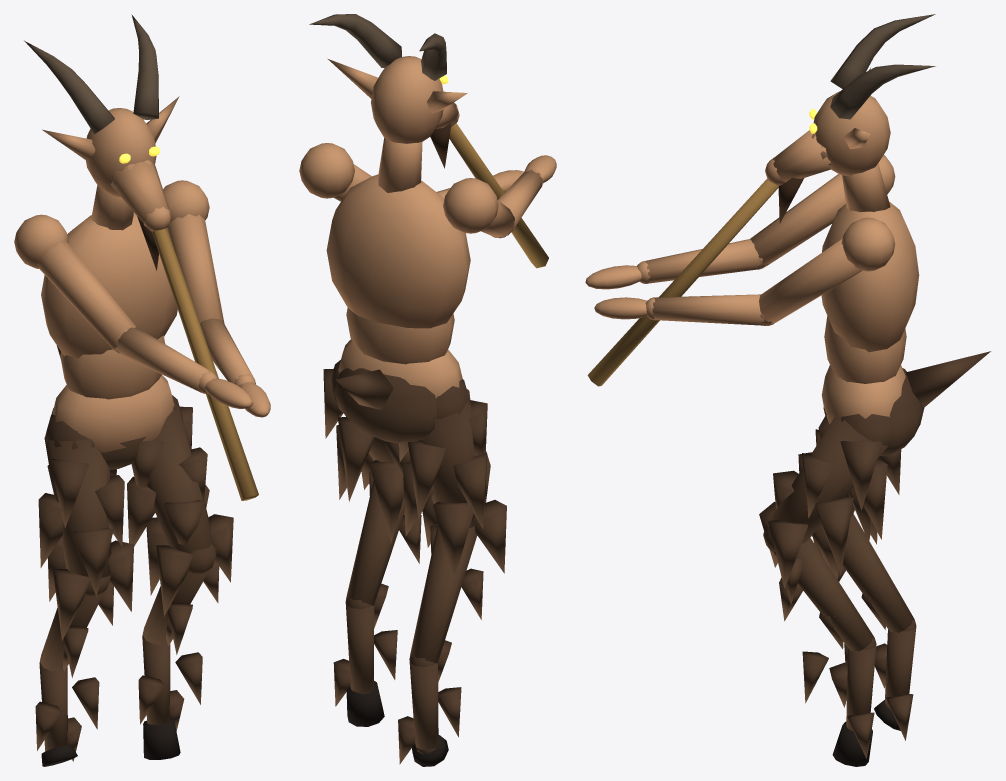
File: satyr.glb
The picture shows the model from 3 angles, left to right: view 1: azimuth 30°, elevation 25°; view 2: azimuth 150°, elevation 25°; view 3: azimuth 270°, elevation 25°; orthographic projection. The views are drawn at different scales.
Visible parts, largest first — view 1: head, torso, thigh_R, thigh_L, shin_L, shin_R, pelvis, upperarm_R, upperarm_L, forearm_R, forearm_L, foot_L (+3 smaller); view 2: torso, thigh_R, head, shin_R, shin_L, pelvis, thigh_L, upperarm_R, upperarm_L, tail, forearm_R, foot_L (+2 smaller); view 3: head, thigh_L, torso, shin_L, shin_R, upperarm_L, pelvis, upperarm_R, forearm_L, forearm_R, tail, thigh_R (+3 smaller).
Boxes of the visible parts, x1=… form: head: x1=24, y1=14, x2=258, y2=500; torso: x1=41, y1=185, x2=177, y2=399; thigh_R: x1=38, y1=414, x2=133, y2=640; thigh_L: x1=127, y1=395, x2=233, y2=616; shin_L: x1=138, y1=560, x2=219, y2=730; shin_R: x1=35, y1=580, x2=113, y2=761; pelvis: x1=51, y1=375, x2=174, y2=469; upperarm_R: x1=14, y1=214, x2=136, y2=351; upperarm_L: x1=163, y1=180, x2=224, y2=323; forearm_R: x1=113, y1=326, x2=217, y2=393; forearm_L: x1=200, y1=318, x2=255, y2=385; foot_L: x1=143, y1=718, x2=180, y2=759; torso: x1=326, y1=138, x2=470, y2=364; thigh_R: x1=399, y1=379, x2=506, y2=579; head: x1=309, y1=14, x2=548, y2=268; shin_R: x1=398, y1=524, x2=483, y2=764; shin_L: x1=333, y1=472, x2=421, y2=706; pelvis: x1=334, y1=339, x2=462, y2=442; thigh_L: x1=323, y1=360, x2=410, y2=543; upperarm_R: x1=443, y1=178, x2=514, y2=238; upperarm_L: x1=299, y1=143, x2=371, y2=201; tail: x1=336, y1=369, x2=393, y2=409; forearm_R: x1=492, y1=169, x2=543, y2=238; foot_L: x1=346, y1=681, x2=384, y2=726; head: x1=587, y1=14, x2=935, y2=386; thigh_L: x1=759, y1=414, x2=892, y2=588; torso: x1=821, y1=163, x2=919, y2=383; shin_L: x1=773, y1=537, x2=876, y2=758; shin_R: x1=837, y1=514, x2=916, y2=740; upperarm_L: x1=759, y1=217, x2=895, y2=323; pelvis: x1=821, y1=365, x2=924, y2=455; upperarm_R: x1=750, y1=155, x2=895, y2=266; forearm_L: x1=645, y1=294, x2=775, y2=325; forearm_R: x1=636, y1=239, x2=767, y2=283; tail: x1=906, y1=351, x2=990, y2=407; thigh_R: x1=798, y1=429, x2=901, y2=559.
Size of the model in its own units: 0.511 by 1.87 by 0.9662.
